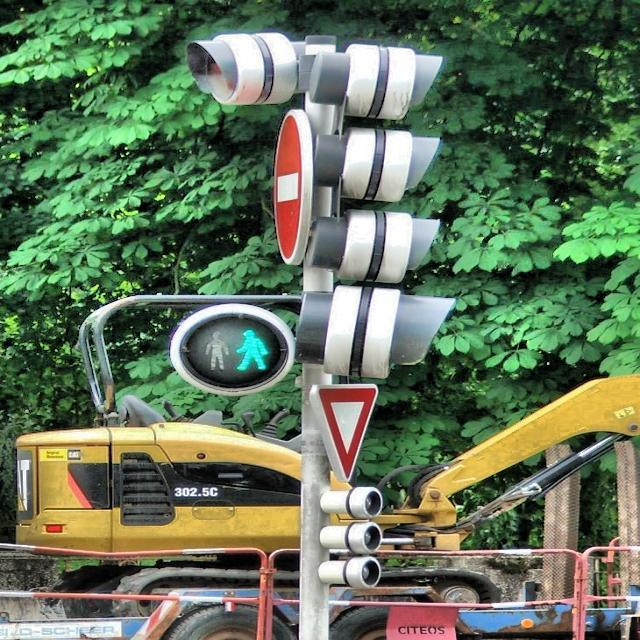green_light: (232, 326, 268, 372)
